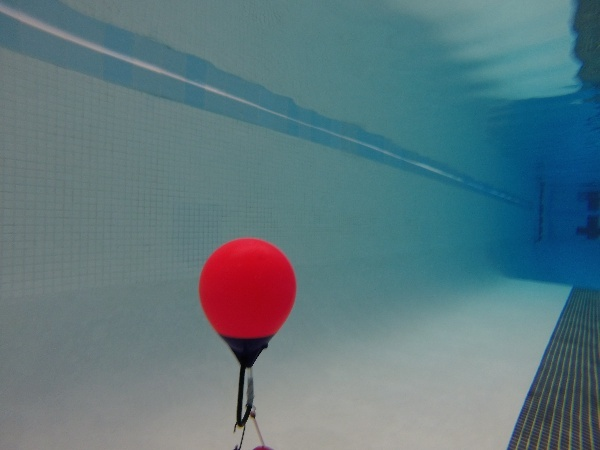buoy_red: (197, 237, 298, 372)
